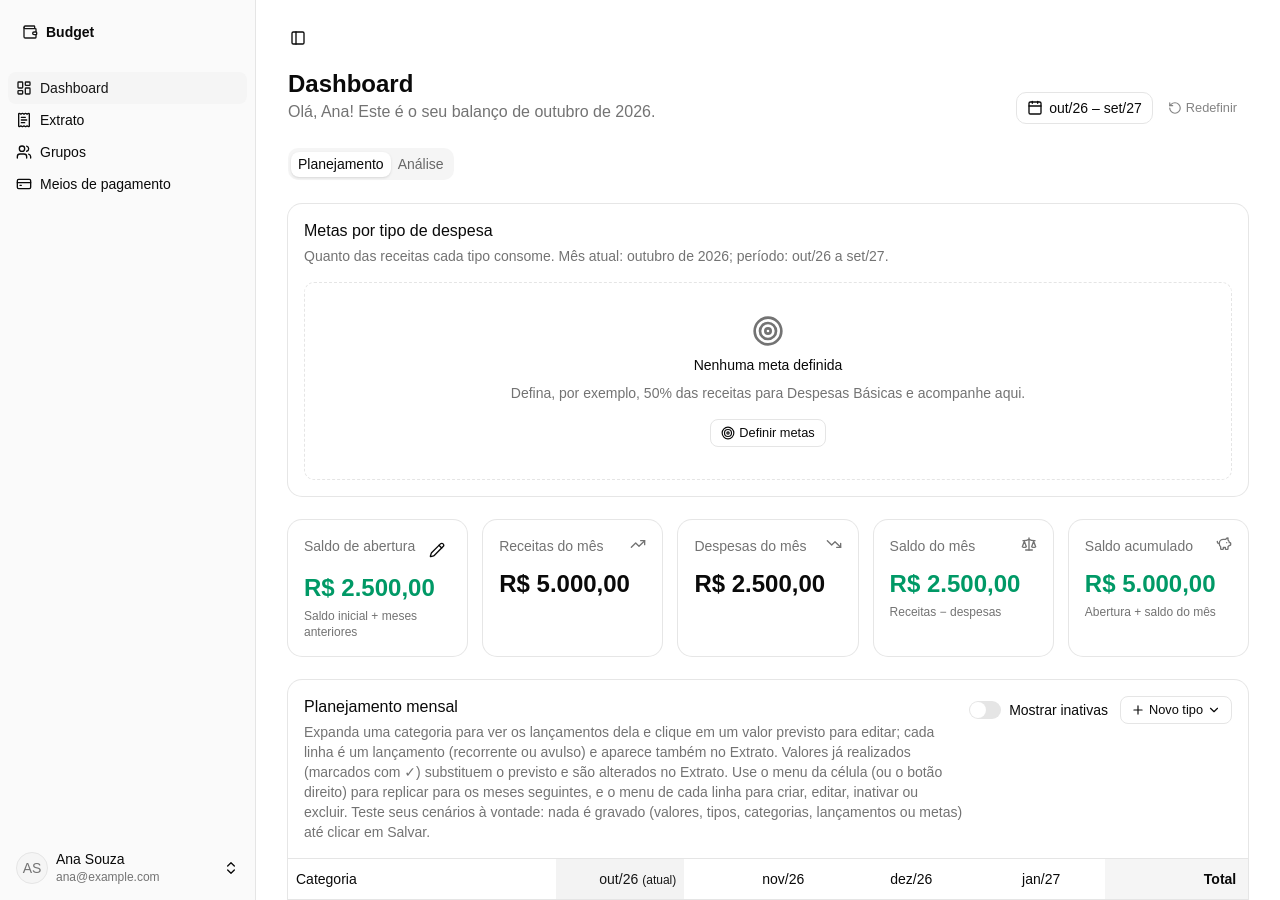
Test: Dashboard route (/) › balance cards › keeps the dialog open with an error for invalid amounts or API failures
Expected: the heading "Dashboard" is shown, x1=288 y1=70 x2=413 y2=97
Click the button named "Ajustar saldo inicial" at (437, 550), box x1=423 y1=536 x2=451 y2=564
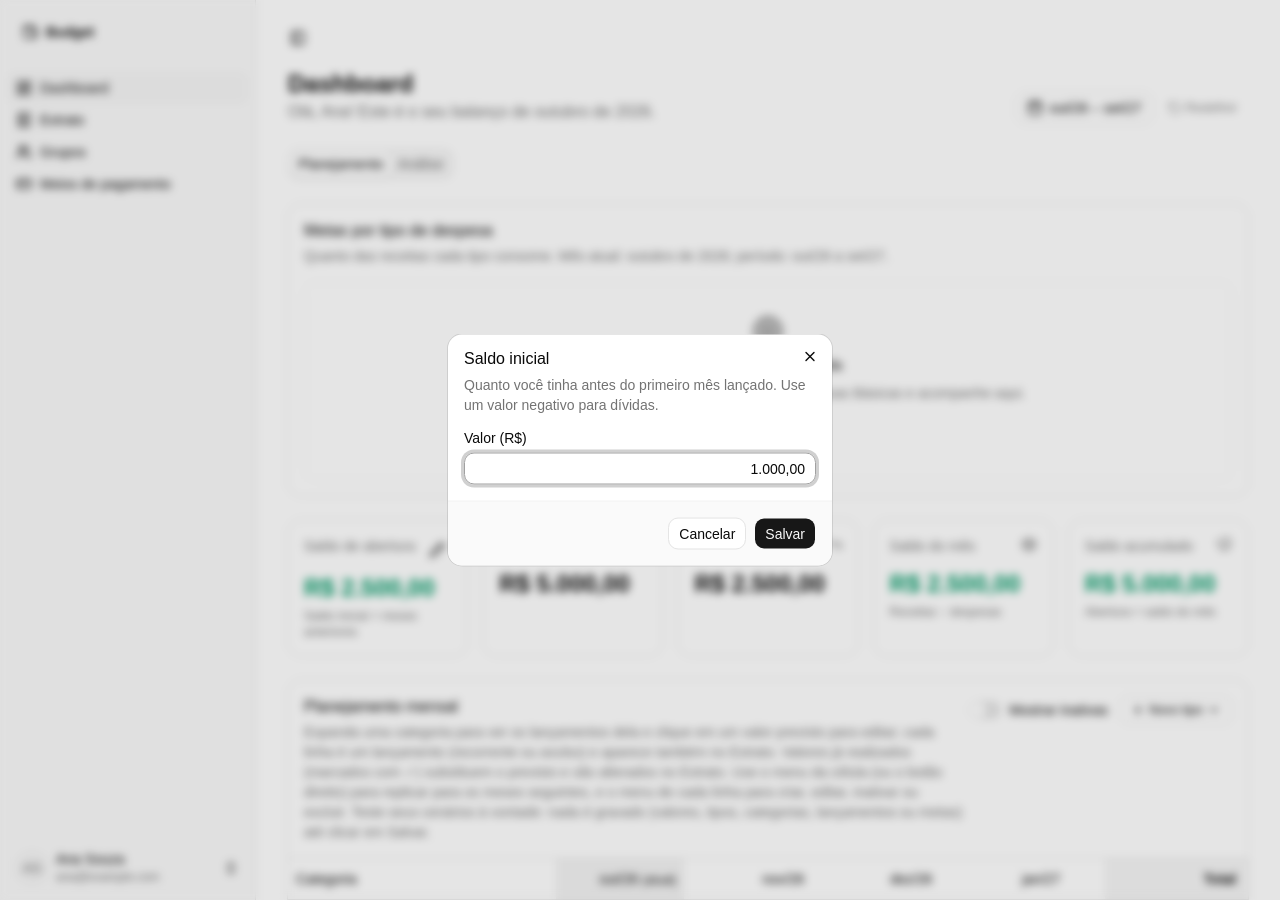
Replace the text in the field with "abc" at (640, 468), box x1=464 y1=452 x2=816 y2=484
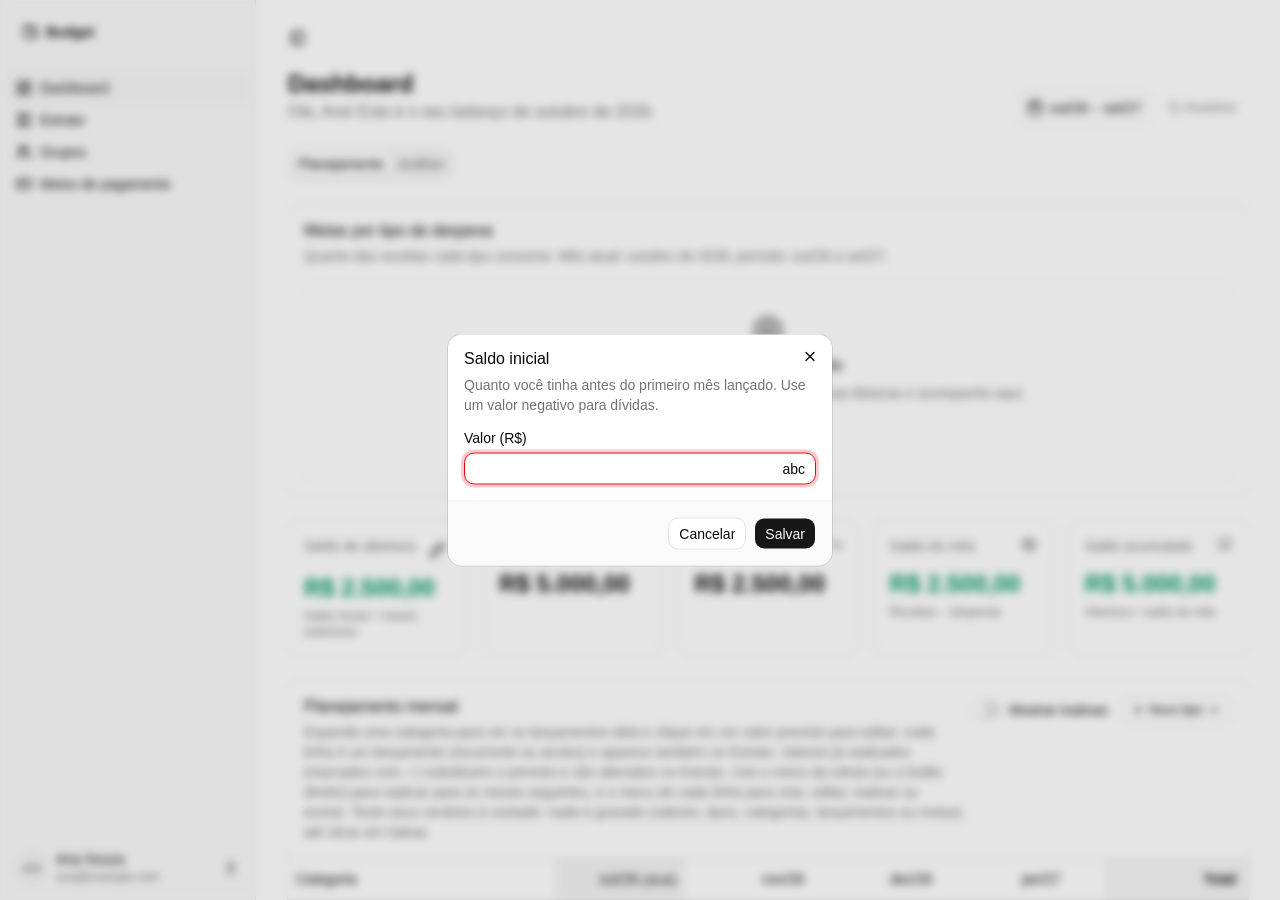
Click the button "Salvar" at (785, 534), box x1=754 y1=518 x2=816 y2=550
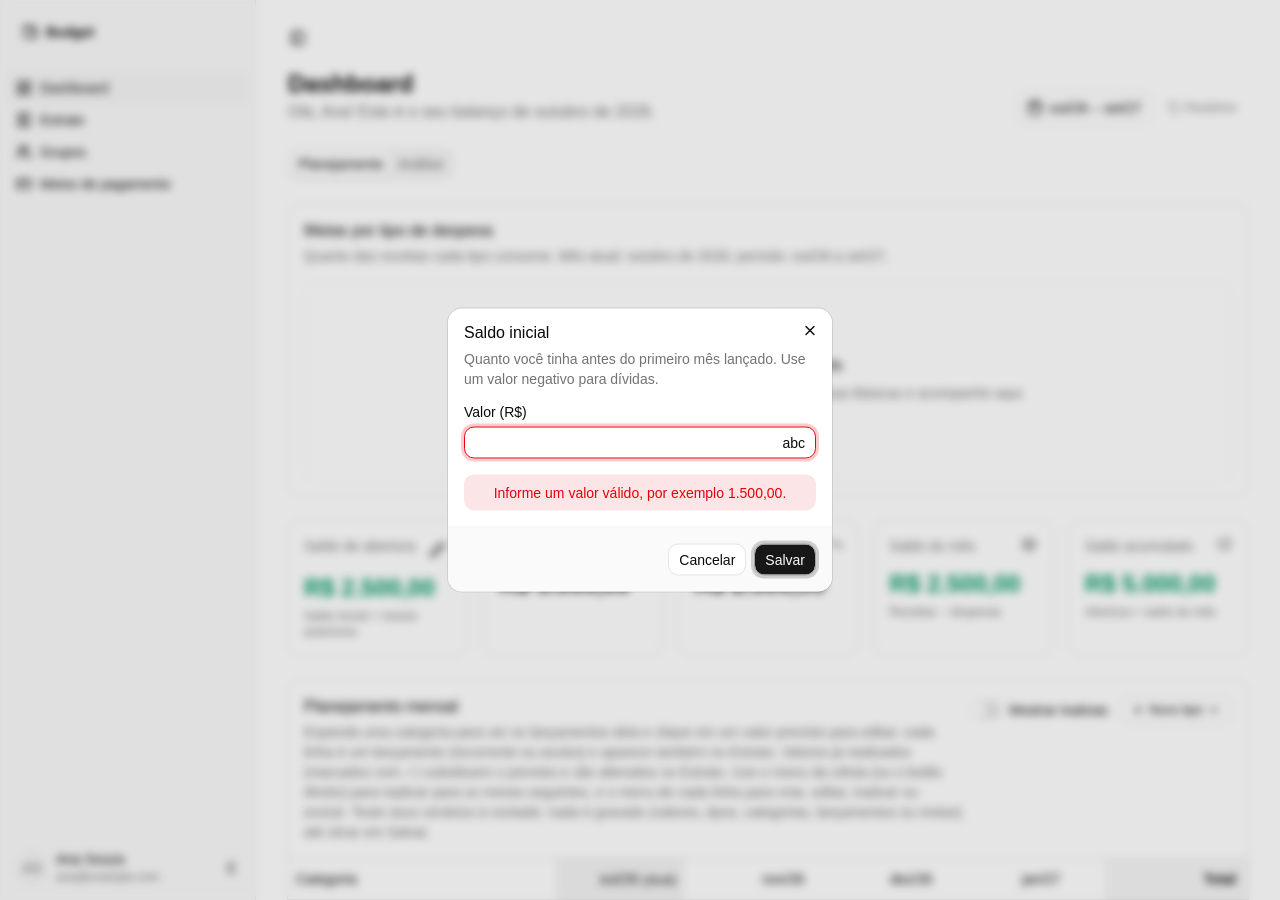
Now the message shows "Informe um valor válido", box x1=494 y1=484 x2=786 y2=500
Replace the text in the field with "10" at (640, 442), box x1=464 y1=426 x2=816 y2=458
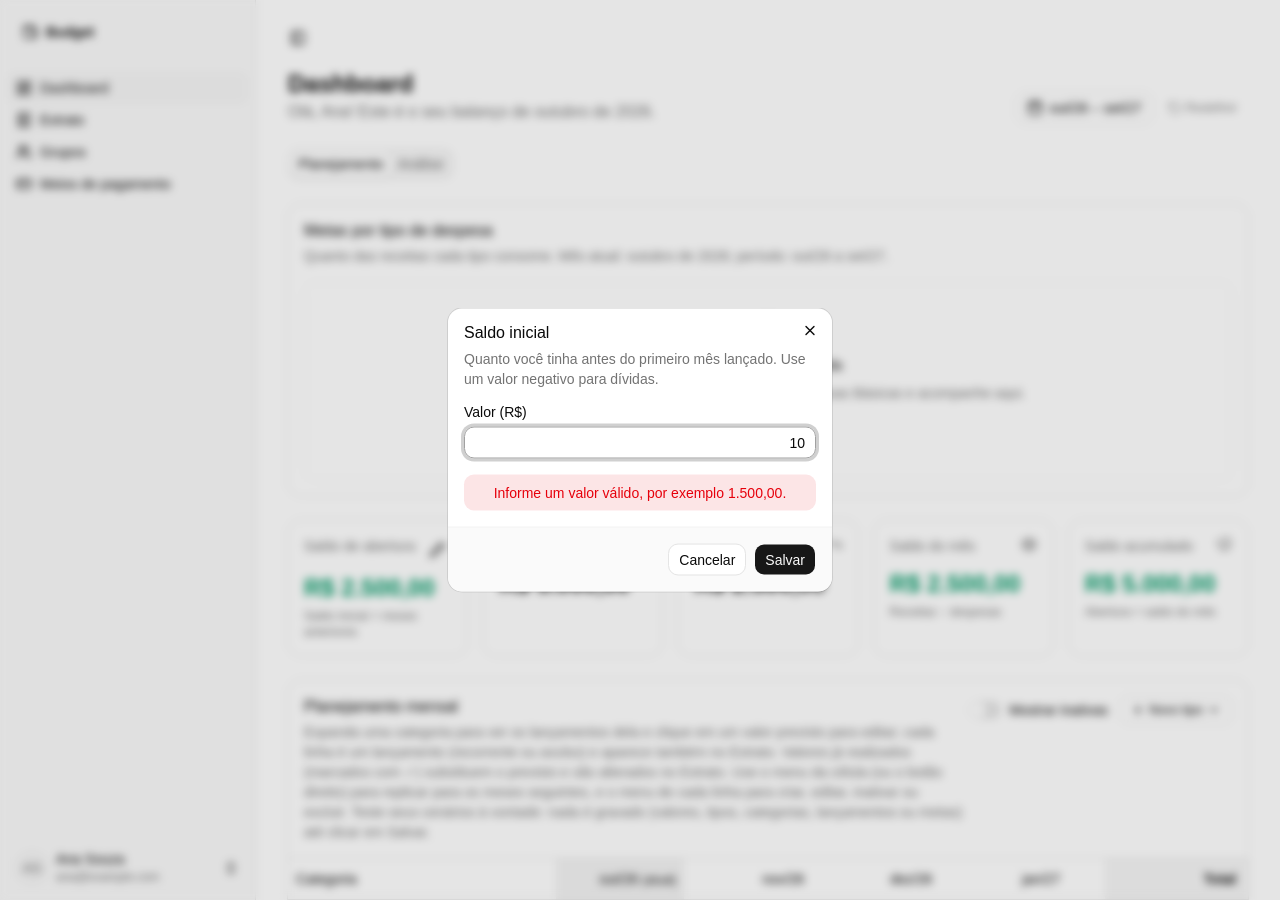
Click the button "Salvar" at (785, 560), box x1=754 y1=544 x2=816 y2=576
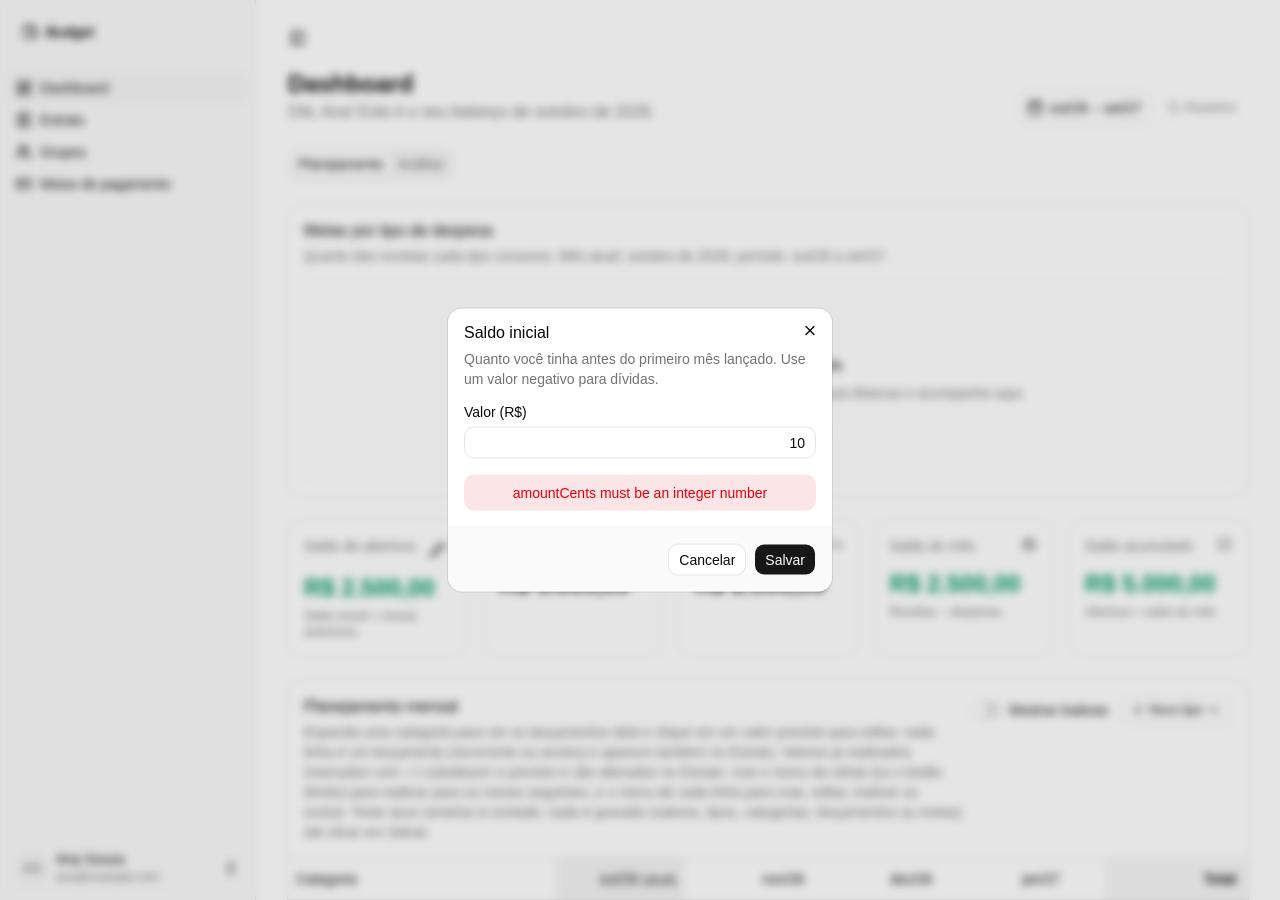
Now the dialog is shown, box x1=448 y1=308 x2=832 y2=592
Now the text "amountCents must be an integer number" is shown, box x1=464 y1=474 x2=816 y2=510
